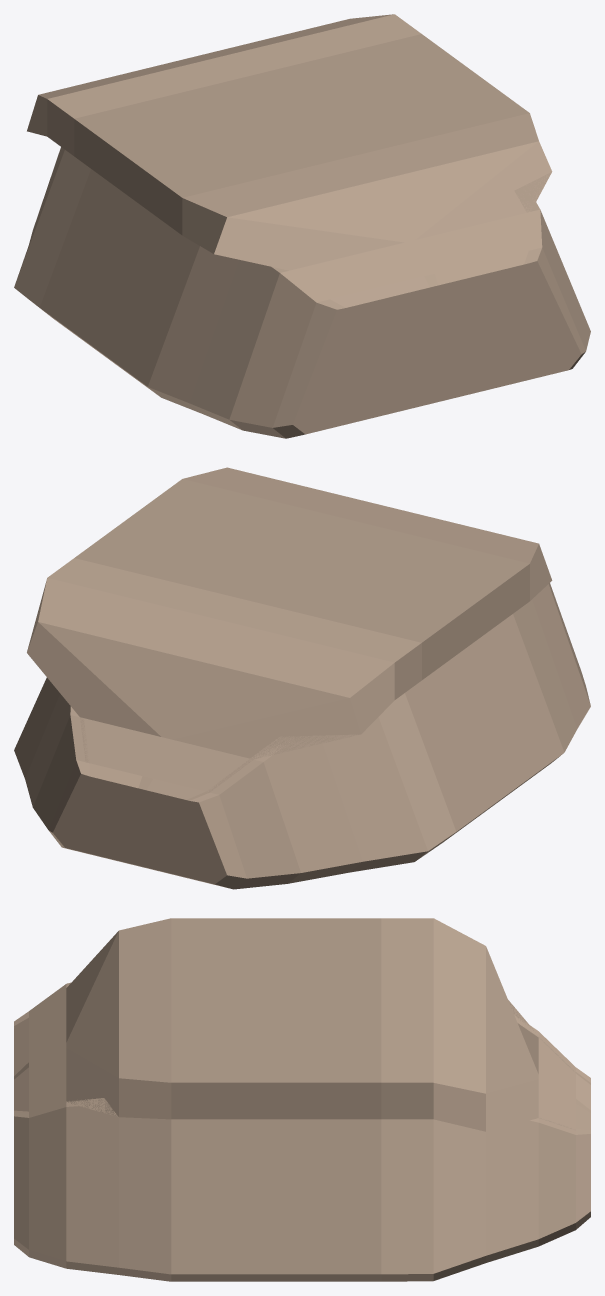
File: orrin_oddball_a.glb
3 renders of one model, top to bottom at view 1: azimuth 30°, elevation 25°; view 2: azimuth 150°, elevation 25°; view 3: azimuth 270°, elevation 25°, orthographic. The views are drawn at different scales.
Parts seen in each view (by area): view 1: orrin_oddball_a; view 2: orrin_oddball_a; view 3: orrin_oddball_a.
Part boxes in pixels (x1=…): orrin_oddball_a: x1=14, y1=14, x2=590, y2=438; orrin_oddball_a: x1=14, y1=467, x2=590, y2=889; orrin_oddball_a: x1=14, y1=918, x2=590, y2=1281.
Bounding box in the file's own units: 5.1 × 2.28 × 6.3.
